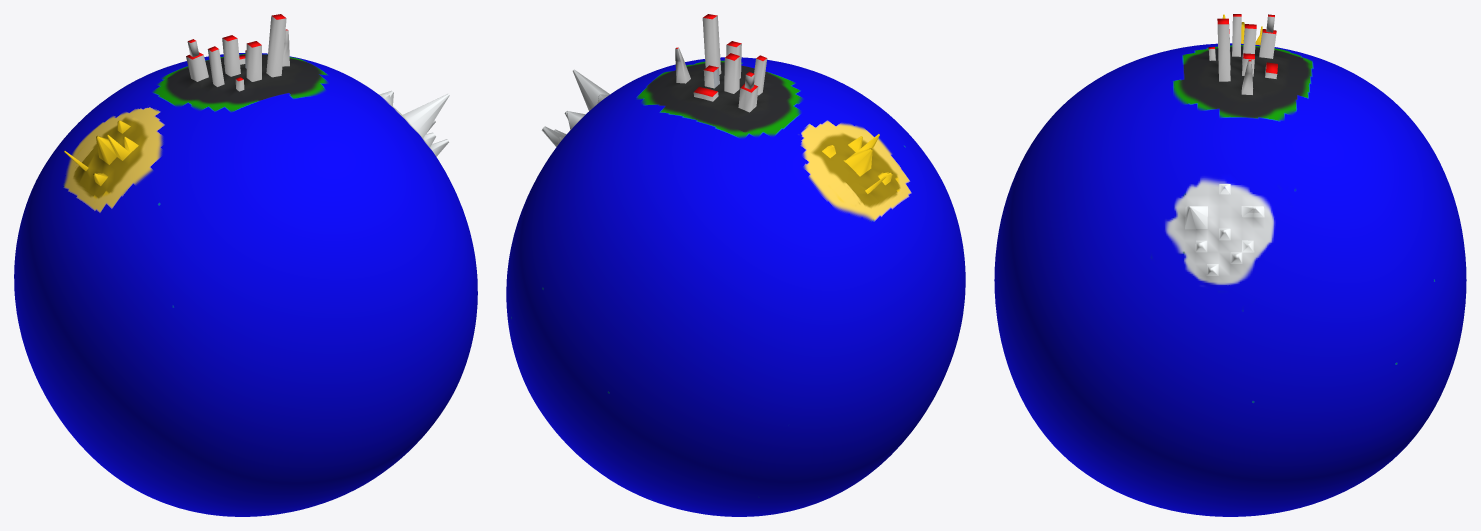
The model's file is earth.fbx.
3 renders of one model, left to right at view 1: azimuth 30°, elevation 25°; view 2: azimuth 150°, elevation 25°; view 3: azimuth 270°, elevation 25°, orthographic. The views are drawn at different scales.
Visible parts, largest first — view 1: Cube; view 2: Cube; view 3: Cube.
Boxes of the visible parts, x1,y1,x2,y2 form: Cube: [14, 14, 477, 516]; Cube: [506, 14, 965, 516]; Cube: [994, 14, 1466, 516].
Bounding box in the file's own units: 911 × 1036 × 906.
